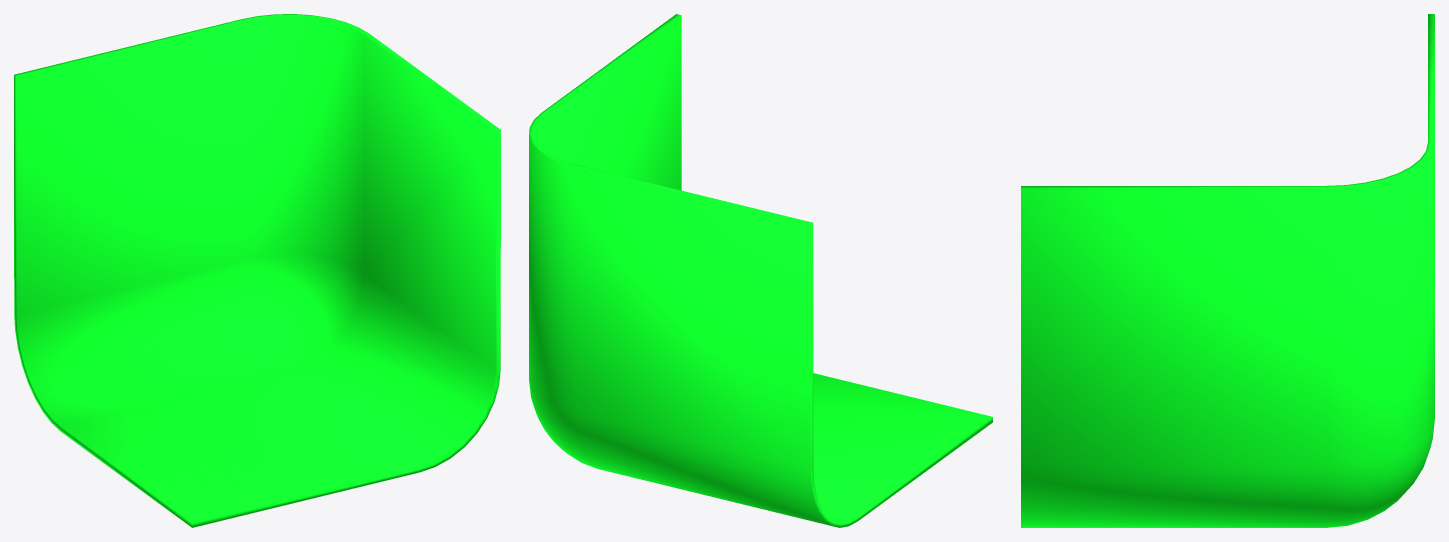
The model's file is GreenScreenCorner.glb.
The picture shows the model from 3 angles, left to right: view 1: azimuth 30°, elevation 25°; view 2: azimuth 150°, elevation 25°; view 3: azimuth 270°, elevation 25°; orthographic projection. The views are drawn at different scales.
Parts seen in each view (by area): view 1: GreenScreenCorner; view 2: GreenScreenCorner; view 3: GreenScreenCorner.
Part boxes in pixels (left/top/right/bottom): GreenScreenCorner: left=14, top=14, right=500, bottom=527; GreenScreenCorner: left=529, top=14, right=992, bottom=527; GreenScreenCorner: left=1021, top=14, right=1434, bottom=527.
Bounding box in the file's own units: 4 × 4 × 4.
1 material, 1 textured.
